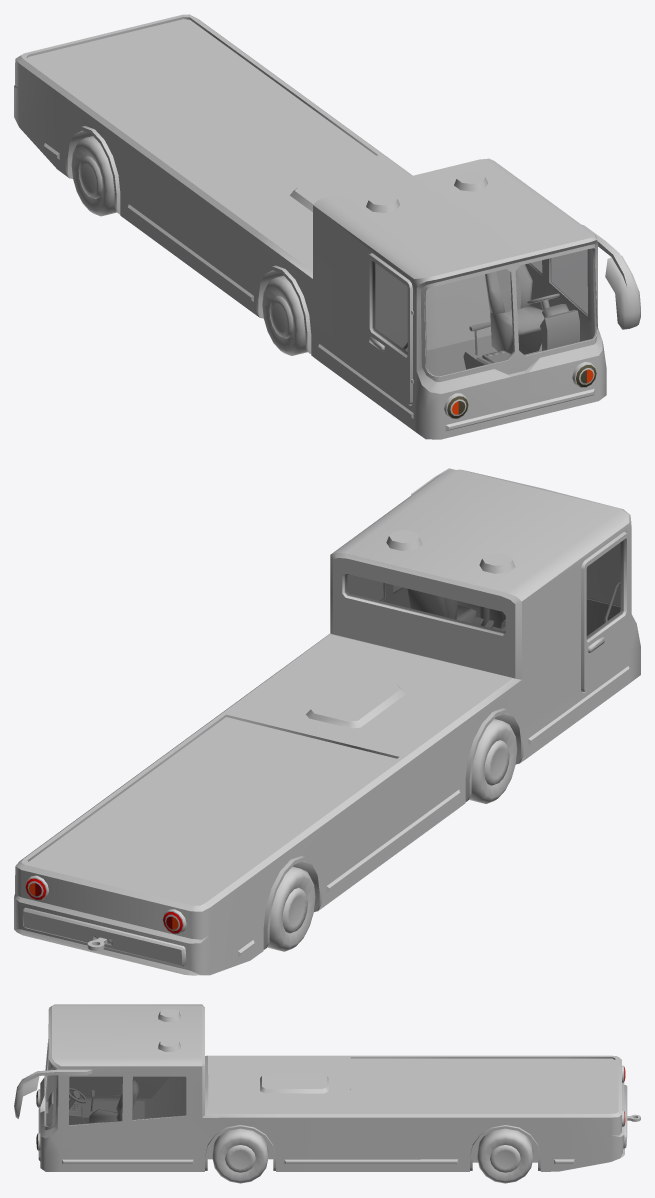
Rendered from TP_Loading_Truck_02A.fbx.
The picture shows the model from 3 angles, top to bottom: view 1: azimuth 30°, elevation 25°; view 2: azimuth 150°, elevation 25°; view 3: azimuth 270°, elevation 25°; orthographic projection. The views are drawn at different scales.
Visible parts, largest first — view 1: TP_Loading_Truck_02A_Body, TP_Loading_Truck_02A_Door, TP_Loading_Truck_02A_Wheel_F.R, TP_Loading_Truck_02A_Wheel_R.R; view 2: TP_Loading_Truck_02A_Body, TP_Loading_Truck_02A_Door, TP_Loading_Truck_02A_Wheel_R.R, TP_Loading_Truck_02A_Wheel_F.R; view 3: TP_Loading_Truck_02A_Body, TP_Loading_Truck_02A_Wheel_F.L, TP_Loading_Truck_02A_Wheel_R.L, TP_Loading_Truck_02A_Door.
Boxes of the visible parts, left/top/right/bottom form: TP_Loading_Truck_02A_Body: left=14, top=14, right=640, bottom=439; TP_Loading_Truck_02A_Door: left=367, top=253, right=413, bottom=404; TP_Loading_Truck_02A_Wheel_F.R: left=262, top=275, right=307, bottom=355; TP_Loading_Truck_02A_Wheel_R.R: left=71, top=136, right=116, bottom=216; TP_Loading_Truck_02A_Body: left=14, top=468, right=640, bottom=975; TP_Loading_Truck_02A_Door: left=581, top=531, right=629, bottom=692; TP_Loading_Truck_02A_Wheel_R.R: left=267, top=866, right=315, bottom=951; TP_Loading_Truck_02A_Wheel_F.R: left=469, top=719, right=517, bottom=803; TP_Loading_Truck_02A_Body: left=14, top=1004, right=640, bottom=1171; TP_Loading_Truck_02A_Wheel_F.L: left=212, top=1128, right=268, bottom=1183; TP_Loading_Truck_02A_Wheel_R.L: left=477, top=1128, right=533, bottom=1183; TP_Loading_Truck_02A_Door: left=69, top=1077, right=122, bottom=1095.
Size of the model in its own units: 3.06 by 2.6 by 11.85.
